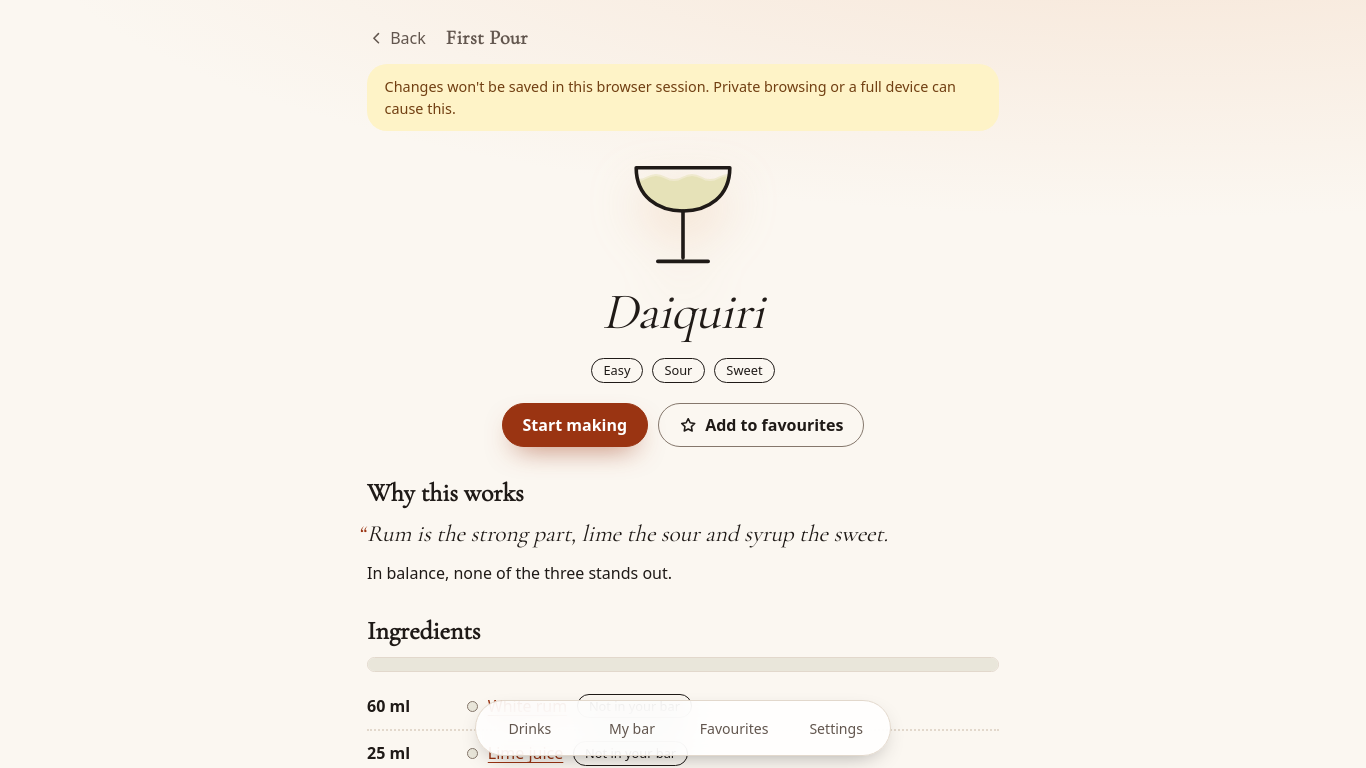
Test: pops the star when the drink is added to favourites, and only then
What coordinates should you click on to do the following:
click the button "Add to favourites"
I would click on:
 (761, 425)
Its box is 658,403 -> 864,447.
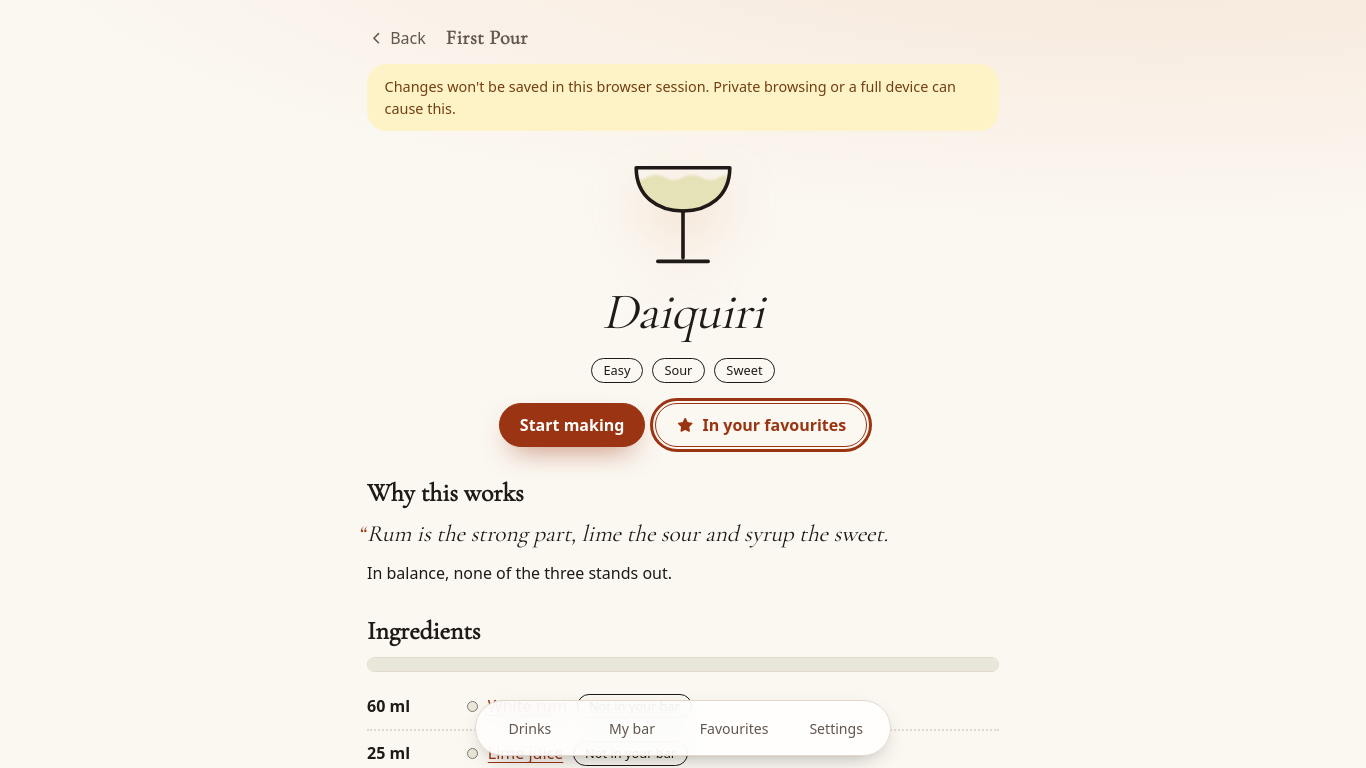
Expected: the icon next to "Start making" is shown, 676,416 -> 694,434
